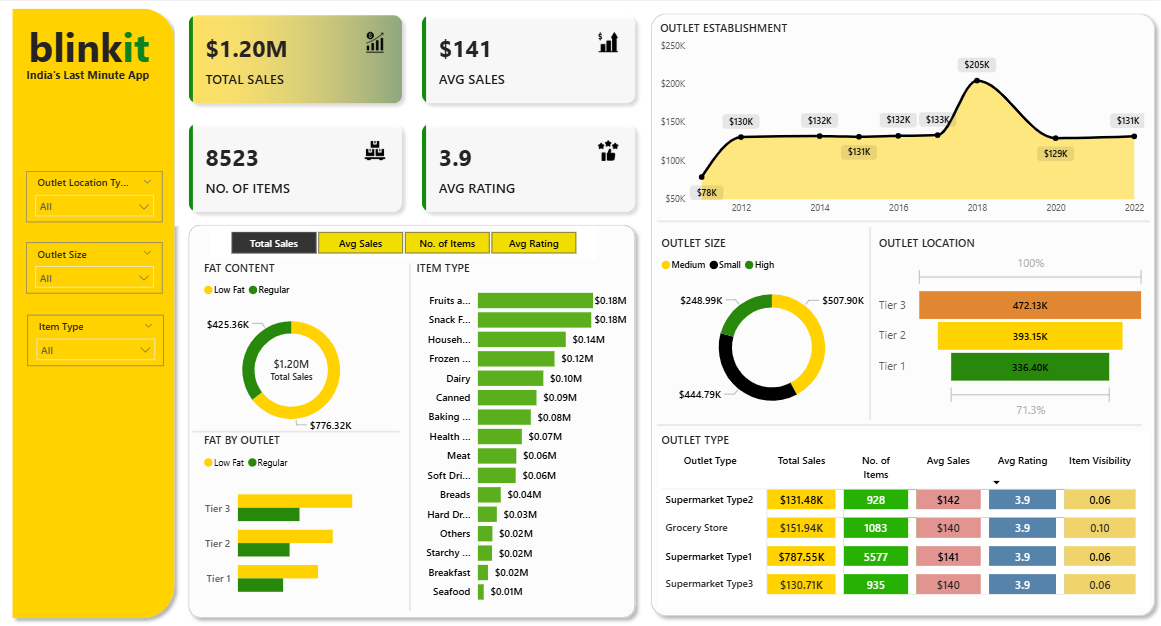

Layout of this report page (visuals, bound fields, positions):
{"tool":"powerbi","page":{"name":"Page 1","canvas":[1400,800],"ordinal":0},"visuals":[{"type":"shape","box":[10,0,212.9,750],"z":0},{"type":"textbox","box":[31.4,17.1,160,157.1],"z":1000},{"type":"textbox","box":[25.7,75.7,170,38.6],"z":2000},{"type":"cardVisual","fields":{"Data":["BlinkIT Grocery Data.Total Sales","BlinkIT Grocery Data.Avg Sales","BlinkIT Grocery Data.No. of Items","BlinkIT Grocery Data.Avg Rating"]},"box":[214.3,0,570,270],"z":3000},{"type":"shape","box":[222.9,260,554.3,490],"z":4000},{"type":"donutChart","title":"FAT CONTENT","fields":{"Y":["BlinkIT Grocery Data.Total Sales"],"Category":["BlinkIT Grocery Data.Item Fat Content"]},"box":[244.3,310,220,220],"z":5000},{"type":"slicer","fields":{"Values":["Metrics.Metrics"]},"box":[257.1,270,464.3,40],"z":6000},{"type":"cardVisual","fields":{"Data":["BlinkIT Grocery Data.Total Sales"]},"box":[308.6,410,91.4,55.7],"z":7000},{"type":"shape","box":[235.7,502.9,248.6,28.6],"z":8000},{"type":"clusteredBarChart","title":"FAT BY OUTLET","fields":{"Y":["BlinkIT Grocery Data.Total Sales"],"Series":["BlinkIT Grocery Data.Item Fat Content"],"Category":["BlinkIT Grocery Data.Outlet Location Type"]},"box":[244.3,517.1,230,215],"z":9000},{"type":"shape","box":[777.1,5.7,622.9,741.4],"z":10000},{"type":"shape","box":[484.3,315.7,24.3,417.1],"z":11000},{"type":"barChart","title":"ITEM TYPE","fields":{"Y":["BlinkIT Grocery Data.Total Sales"],"Category":["BlinkIT Grocery Data.Item Type"]},"box":[500,310,262.9,422.9],"z":12000},{"type":"lineChart","title":"OUTLET ESTABLISHMENT","fields":{"Y":["BlinkIT Grocery Data.Total Sales"],"Category":["BlinkIT Grocery Data.Outlet Establishment Year"]},"box":[792.9,22.9,591.4,242.9],"z":13000},{"type":"shape","box":[794.3,260,591.4,10],"z":14000},{"type":"donutChart","title":"OUTLET SIZE","fields":{"Y":["BlinkIT Grocery Data.Total Sales"],"Category":["BlinkIT Grocery Data.Outlet Size"]},"box":[794.3,280,275.7,225.7],"z":15000},{"type":"shape","box":[1042.9,271.4,12.9,231.4],"z":16000},{"type":"funnel","title":"OUTLET LOCATION","fields":{"Y":["Sum(BlinkIT Grocery Data.Sales)"],"Category":["BlinkIT Grocery Data.Outlet Location Type"]},"box":[1055.7,280,330,225.7],"z":17000},{"type":"pivotTable","title":"OUTLET TYPE","fields":{"Rows":["BlinkIT Grocery Data.Outlet Type"],"Values":["BlinkIT Grocery Data.Total Sales","BlinkIT Grocery Data.No. of Items","BlinkIT Grocery Data.Avg Sales","BlinkIT Grocery Data.Avg Rating","Avg(BlinkIT Grocery Data.Item Visibility)"]},"box":[794.3,517.1,591.4,210],"z":18000},{"type":"shape","box":[794.3,501.4,581.4,15.7],"z":19000},{"type":"slicer","fields":{"Values":["BlinkIT Grocery Data.Outlet Location Type"]},"box":[35.7,204.3,164.3,61.4],"z":20000},{"type":"slicer","fields":{"Values":["BlinkIT Grocery Data.Outlet Size"]},"box":[35.7,290,164.3,61.4],"z":21000},{"type":"slicer","fields":{"Values":["BlinkIT Grocery Data.Item Type"]},"box":[37.1,377.1,164.3,61.4],"z":22000}]}

Visuals, with their boxes on the page's 1400x800 design canvas (x1, y1, x2, y2). These are canvas units, not pixel positions in the 1161x626 screenshot, which may show the page scaled, cropped or inside an application window:
shape: [10,0,223,750]
textbox: [31,17,191,174]
textbox: [26,76,196,114]
cardVisual - BlinkIT Grocery Data.Total Sales x BlinkIT Grocery Data.Avg Sales: [214,0,784,270]
shape: [223,260,777,750]
"FAT CONTENT" donutChart: [244,310,464,530]
slicer - Metrics.Metrics: [257,270,721,310]
cardVisual - BlinkIT Grocery Data.Total Sales: [309,410,400,466]
shape: [236,503,484,532]
"FAT BY OUTLET" clusteredBarChart: [244,517,474,732]
shape: [777,6,1400,747]
shape: [484,316,509,733]
"ITEM TYPE" barChart: [500,310,763,733]
"OUTLET ESTABLISHMENT" lineChart: [793,23,1384,266]
shape: [794,260,1386,270]
"OUTLET SIZE" donutChart: [794,280,1070,506]
shape: [1043,271,1056,503]
"OUTLET LOCATION" funnel: [1056,280,1386,506]
"OUTLET TYPE" pivotTable: [794,517,1386,727]
shape: [794,501,1376,517]
slicer - BlinkIT Grocery Data.Outlet Location Type: [36,204,200,266]
slicer - BlinkIT Grocery Data.Outlet Size: [36,290,200,351]
slicer - BlinkIT Grocery Data.Item Type: [37,377,201,438]
